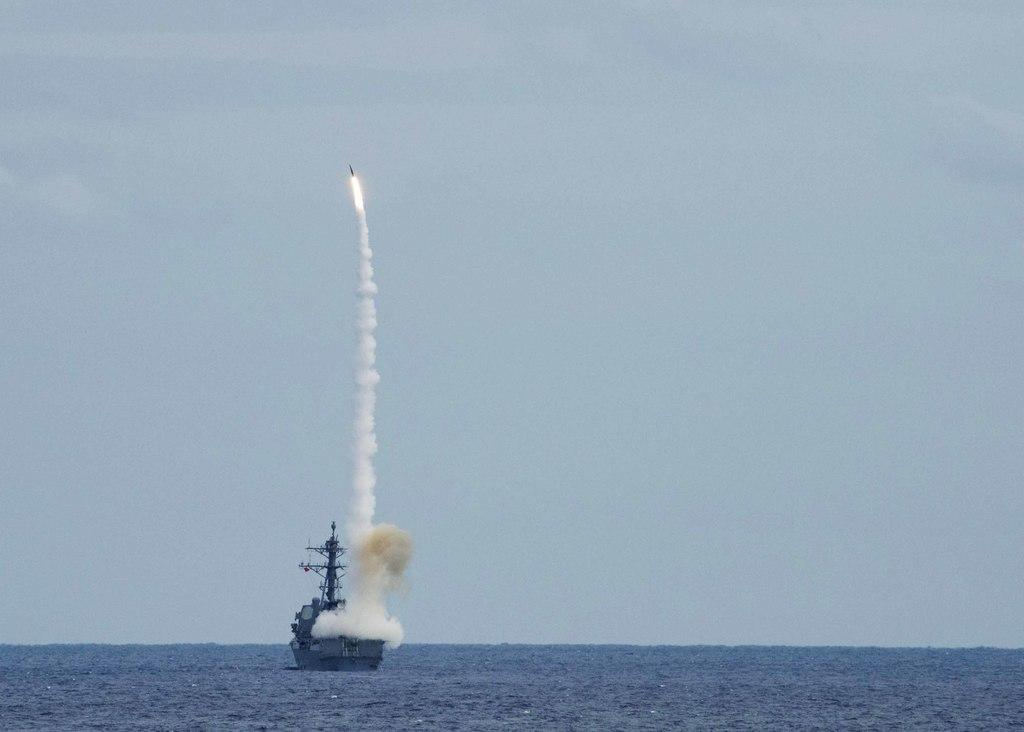Missile: (347, 161, 355, 178), (351, 163, 356, 178)
